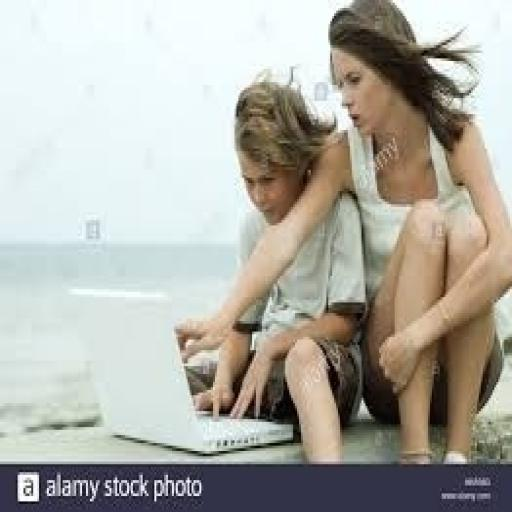using_laptop: (67, 281, 295, 456)
